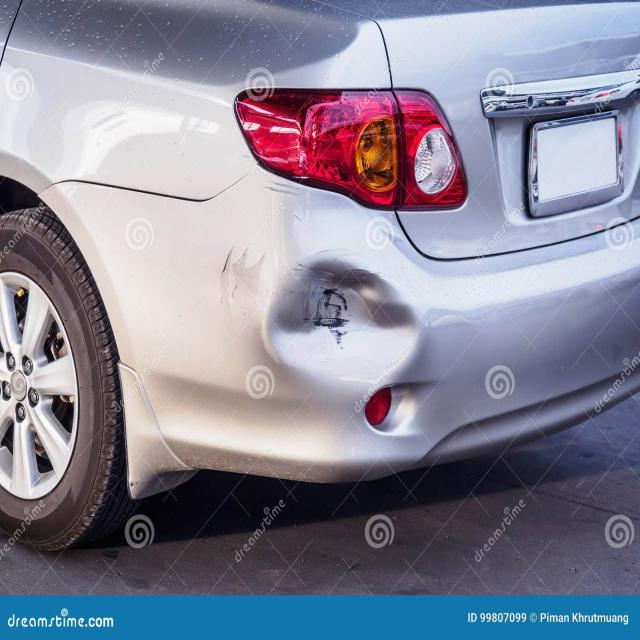dent: (262, 257, 428, 390)
scratch: (216, 241, 413, 385), (263, 177, 303, 198), (291, 211, 305, 223), (240, 155, 252, 160)
